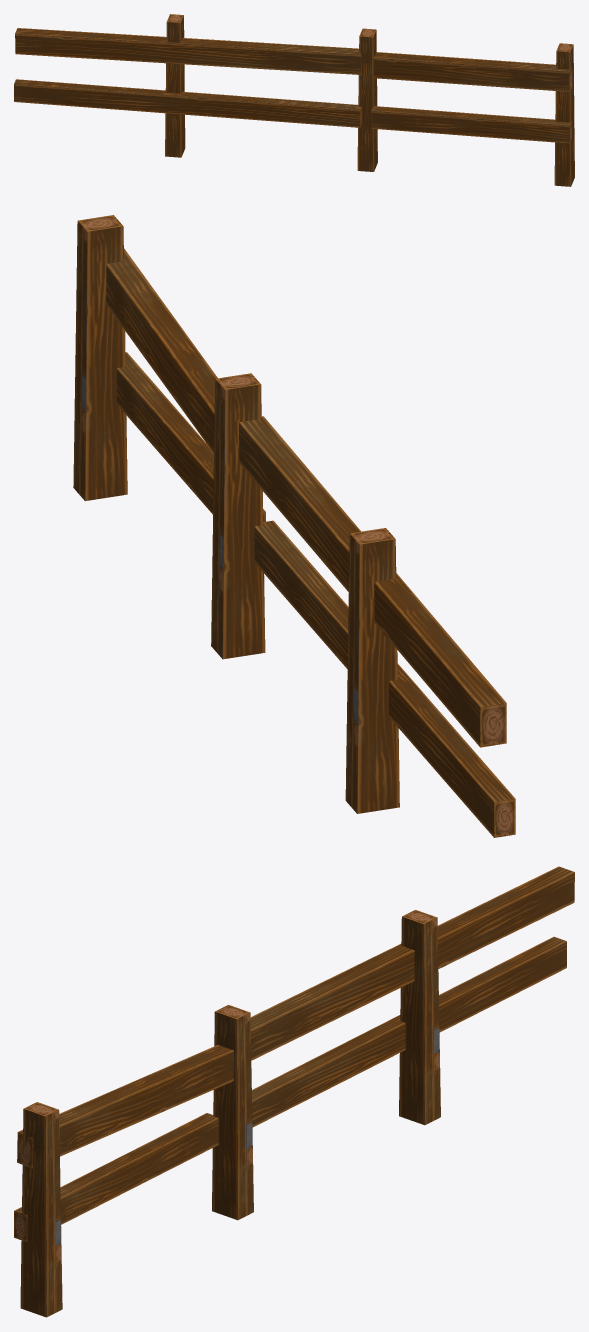
3 views of the same model, one above another, from view 1: azimuth 30°, elevation 25°; view 2: azimuth 150°, elevation 25°; view 3: azimuth 270°, elevation 25° (orthographic). The views are drawn at different scales.
Parts seen in each view (by area): view 1: Cube.2148; view 2: Cube.2148; view 3: Cube.2148.
Boxes of the visible parts, x1,y1,x2,y2 form: Cube.2148: [14, 14, 574, 186]; Cube.2148: [73, 215, 515, 837]; Cube.2148: [14, 866, 574, 1317].
Bounding box in the file's own units: 403 × 132 × 335.
1 material, 1 textured.
